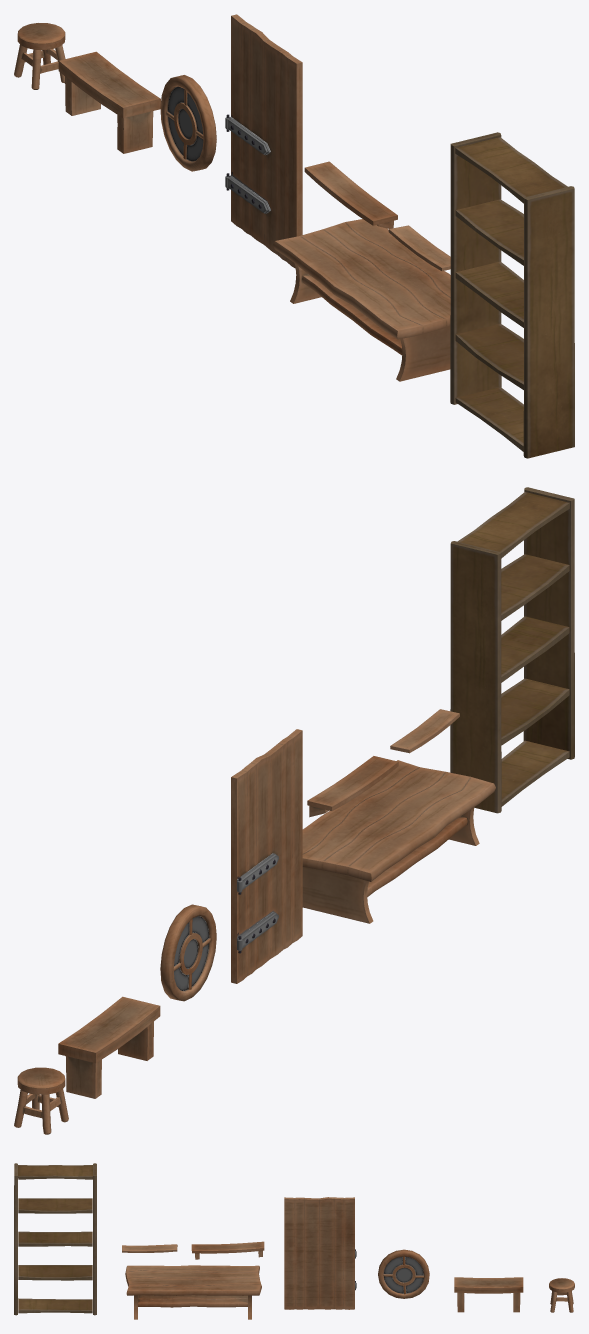
Rendered from OB_Casa.fbx.
3 renders of one model, top to bottom at view 1: azimuth 30°, elevation 25°; view 2: azimuth 150°, elevation 25°; view 3: azimuth 270°, elevation 25°, orthographic. The views are drawn at different scales.
Visible parts, largest first — view 1: Estante, Mesa, Porta, Banquinho_2, Janela, Prateleira_B, Banquinho_1, Prateleira_A; view 2: Estante, Mesa, Porta, Banquinho_2, Janela, Banquinho_1, Prateleira_B, Prateleira_A; view 3: Porta, Estante, Mesa, Janela, Banquinho_2, Prateleira_B, Banquinho_1, Prateleira_A.
Part boxes in pixels (left/top/right/bottom): Estante: left=450, top=132, right=574, bottom=458; Mesa: left=273, top=219, right=450, bottom=381; Porta: left=225, top=14, right=302, bottom=268; Banquinho_2: left=58, top=51, right=160, bottom=153; Janela: left=160, top=75, right=216, bottom=171; Prateleira_B: left=304, top=161, right=397, bottom=228; Banquinho_1: left=14, top=23, right=65, bottom=89; Prateleira_A: left=388, top=225, right=450, bottom=271; Estante: left=450, top=487, right=574, bottom=813; Mesa: left=302, top=760, right=495, bottom=923; Porta: left=231, top=729, right=302, bottom=983; Banquinho_2: left=58, top=996, right=160, bottom=1098; Janela: left=160, top=904, right=216, bottom=1001; Banquinho_1: left=14, top=1067, right=68, bottom=1134; Prateleira_B: left=307, top=756, right=398, bottom=817; Prateleira_A: left=390, top=709, right=459, bottom=753; Porta: left=284, top=1197, right=356, bottom=1309; Estante: left=14, top=1163, right=96, bottom=1315; Mesa: left=125, top=1265, right=261, bottom=1319; Janela: left=378, top=1249, right=429, bottom=1298; Banquinho_2: left=454, top=1277, right=523, bottom=1312; Prateleira_B: left=191, top=1241, right=264, bottom=1259; Banquinho_1: left=549, top=1278, right=574, bottom=1312; Prateleira_A: left=122, top=1244, right=177, bottom=1252.
Size of the model in its own units: 132 by 322 by 1174.
